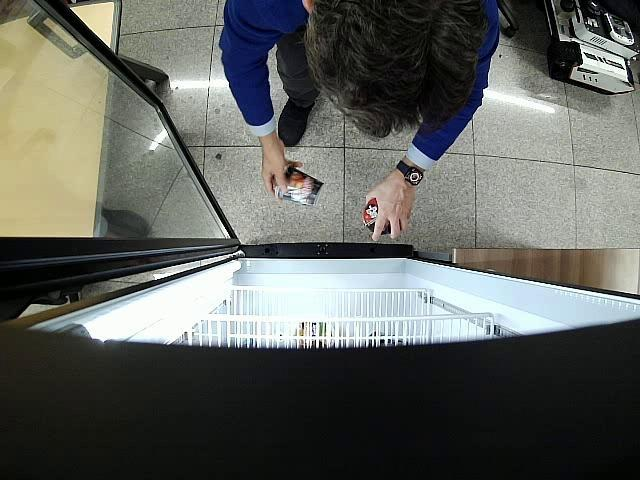08_buldak_S: (276, 164, 324, 206), (362, 197, 391, 234)
